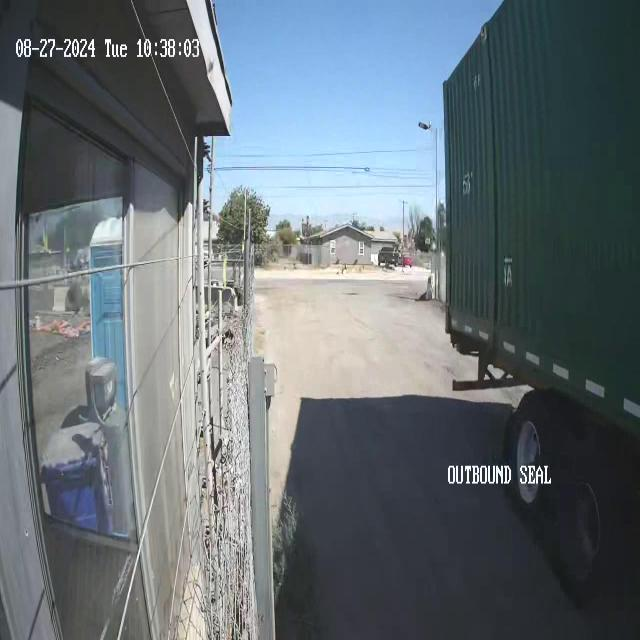TRUCK_CONTAINER: (443, 1, 639, 519)
